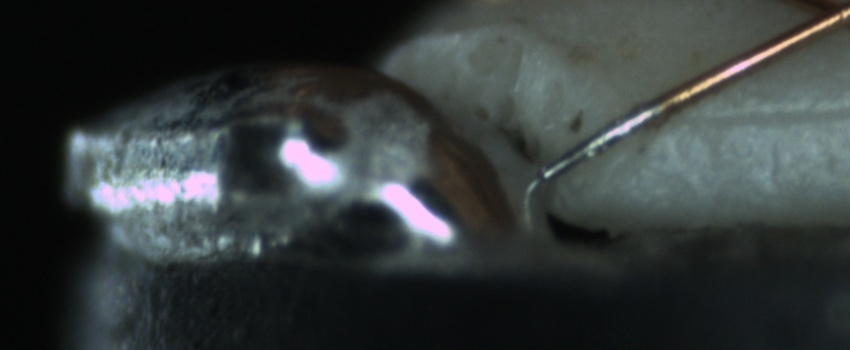CL: (779, 0, 849, 44)
DL: (672, 83, 849, 147)
TS: (544, 102, 663, 177)
